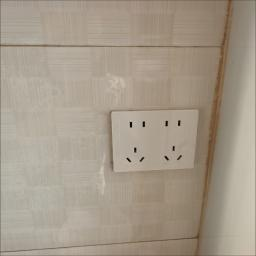outlet: (112, 108, 199, 178)
